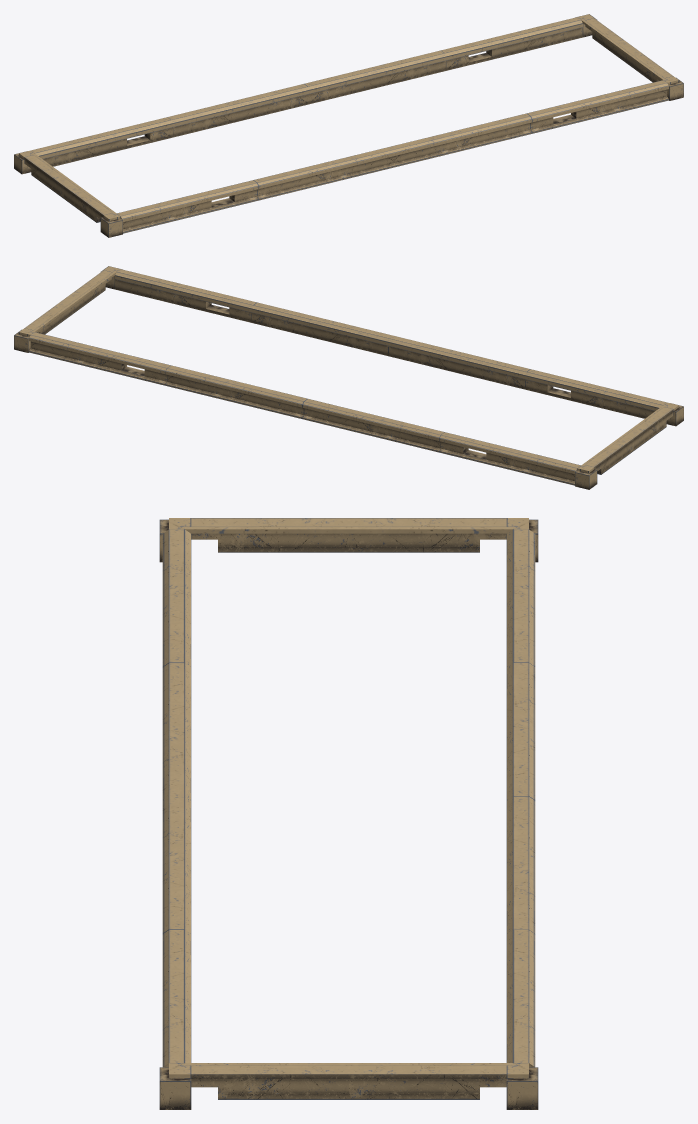
Rendered from CnFrameBtmA3.fbx.
3 renders of one model, top to bottom at view 1: azimuth 30°, elevation 25°; view 2: azimuth 150°, elevation 25°; view 3: azimuth 270°, elevation 25°, orthographic. The views are drawn at different scales.
Parts seen in each view (by area): view 1: CnFrameBtmA3; view 2: CnFrameBtmA3; view 3: CnFrameBtmA3.
Boxes of the visible parts, x1,y1,x2,y2 form: CnFrameBtmA3: [14, 14, 683, 237]; CnFrameBtmA3: [14, 266, 683, 489]; CnFrameBtmA3: [159, 518, 538, 1109].
Bounding box in the file's own units: 842 × 23 × 240.
